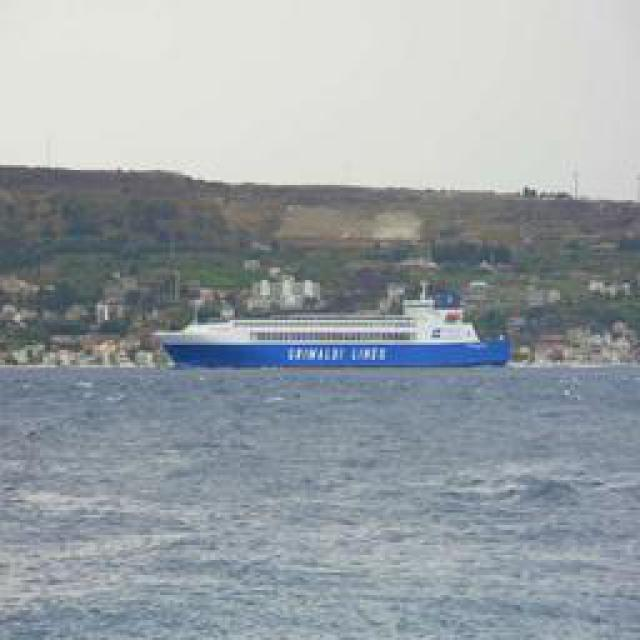Ship: (164, 295, 507, 375)
